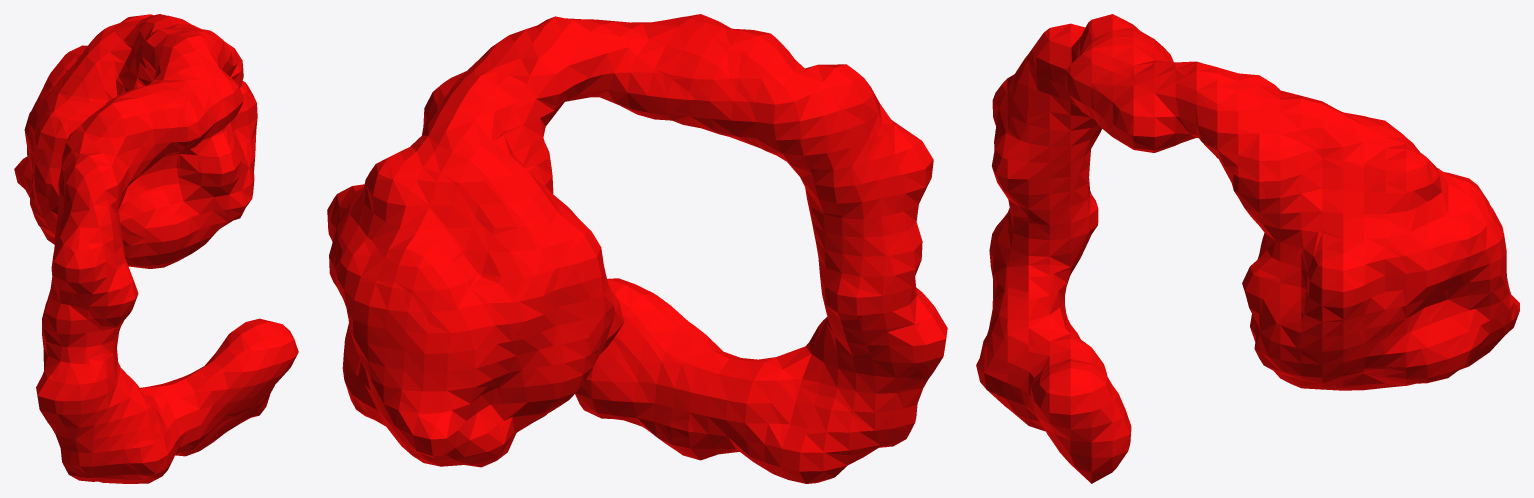
File: Calnexin_coarse.dae
3 views of the same model, side by side, from view 1: azimuth 30°, elevation 25°; view 2: azimuth 150°, elevation 25°; view 3: azimuth 270°, elevation 25° (orthographic). The views are drawn at different scales.
Parts seen in each view (by area): view 1: Calnexin; view 2: Calnexin; view 3: Calnexin.
Part boxes in pixels (x1=…): Calnexin: x1=14, y1=14, x2=298, y2=483; Calnexin: x1=327, y1=14, x2=947, y2=483; Calnexin: x1=976, y1=14, x2=1519, y2=483.
Bounding box in the file's own units: 76.47 × 77.38 × 88.53.
